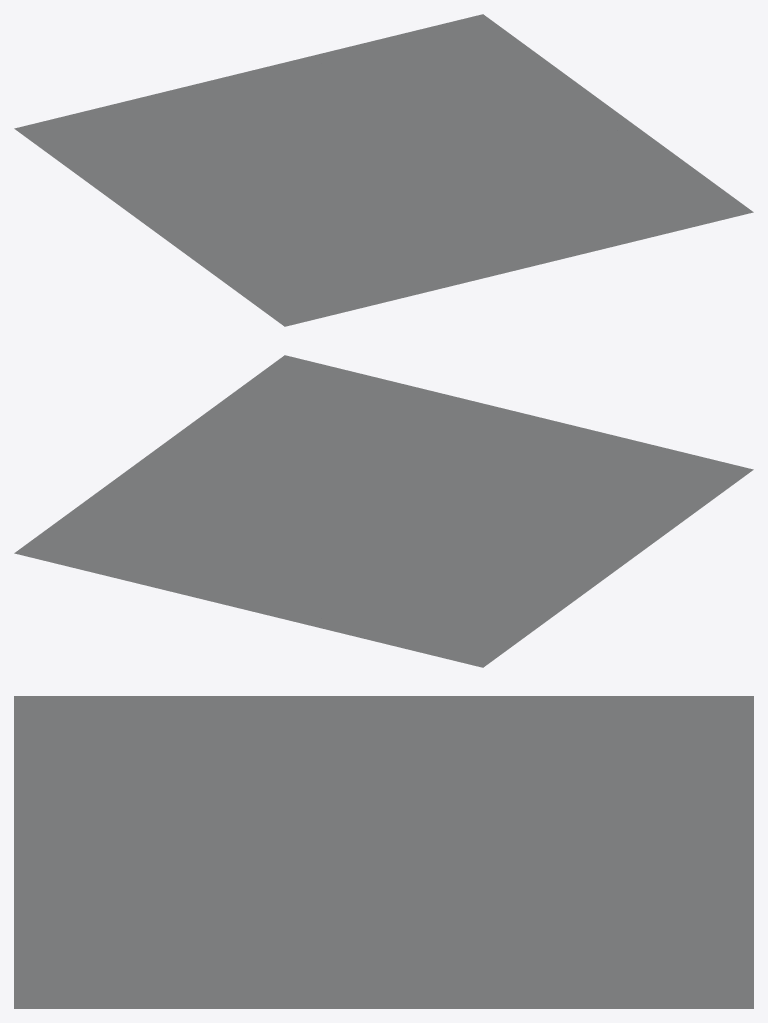
The model's file is Ceiling_type_B_036.fbx.
3 views of the same model, one above another, from view 1: azimuth 30°, elevation 25°; view 2: azimuth 150°, elevation 25°; view 3: azimuth 270°, elevation 25° (orthographic). The views are drawn at different scales.
Parts seen in each view (by area): view 1: Ceiling_type_B_036; view 2: Ceiling_type_B_036; view 3: Ceiling_type_B_036.
Boxes of the visible parts, left/top/right/bottom form: Ceiling_type_B_036: left=14, top=14, right=753, bottom=326; Ceiling_type_B_036: left=14, top=355, right=753, bottom=667; Ceiling_type_B_036: left=14, top=696, right=753, bottom=1008.
Bounding box in the file's own units: 400 × 400 × 1.2.
